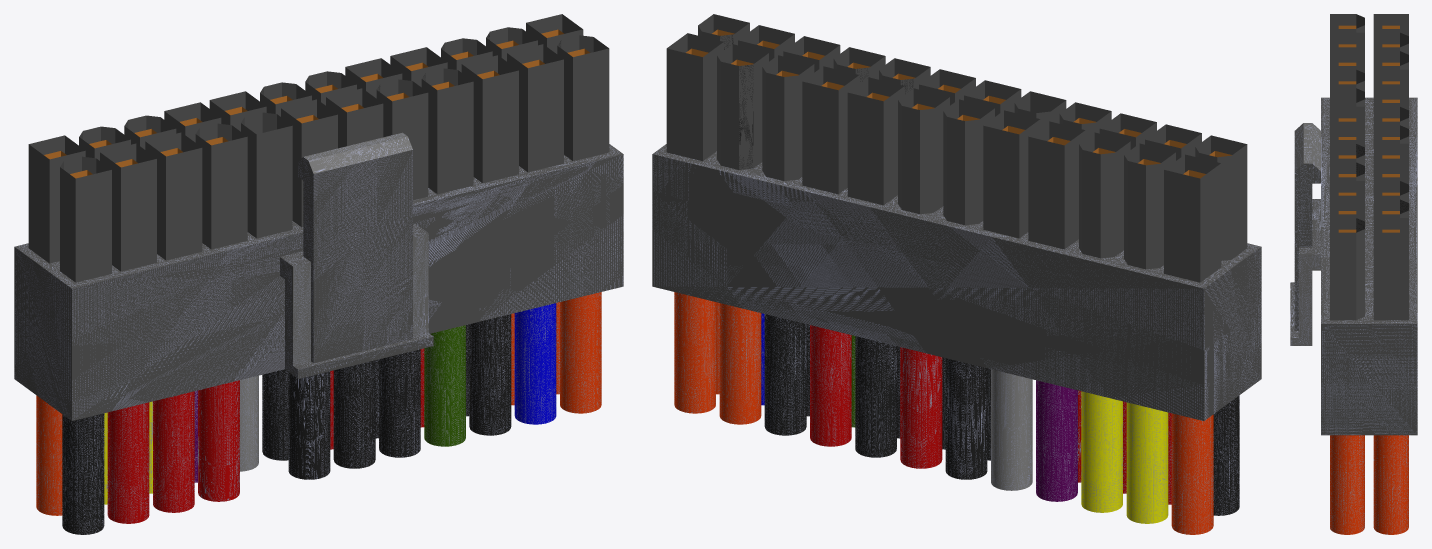
The model's file is 24PinConnector.dae.
The picture shows the model from 3 angles, left to right: view 1: azimuth 30°, elevation 25°; view 2: azimuth 150°, elevation 25°; view 3: azimuth 270°, elevation 25°; orthographic projection. The views are drawn at different scales.
Parts seen in each view (by area): view 1: _24_Pin_Main (×43); view 2: _24_Pin_Main (×39); view 3: _24_Pin_Main (×30).
Boxes of the visible parts, x1,y1,x2,y2 form: _24_Pin_Main (×43): [14, 14, 623, 534]; _24_Pin_Main (×39): [652, 14, 1261, 534]; _24_Pin_Main (×30): [1290, 14, 1417, 534].
Size of what is drawn, in the model's own units: 1.91 by 0.4531 by 1.19.
